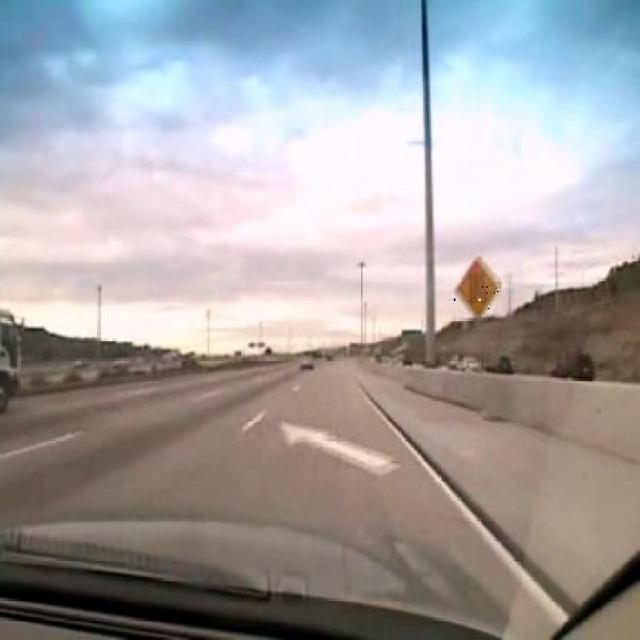laneEnds: (452, 257, 500, 318)
